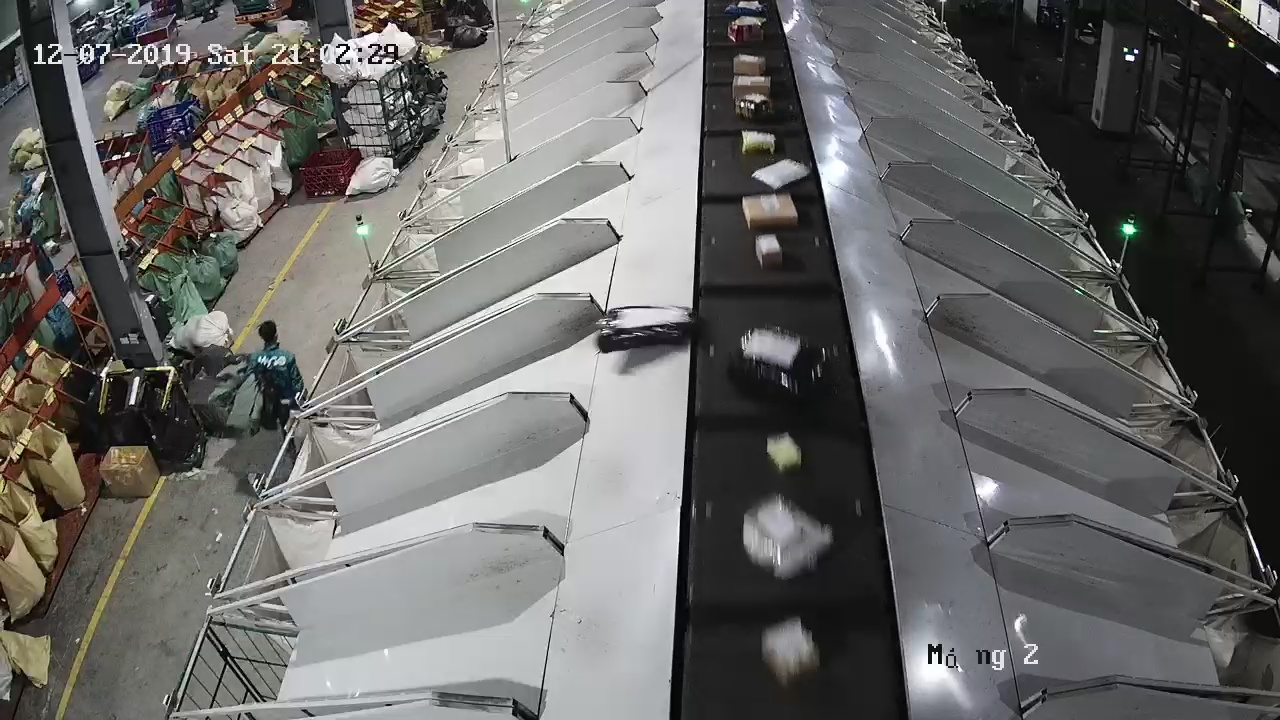parcel: (595, 304, 692, 354), (750, 157, 812, 192), (765, 429, 801, 471)
